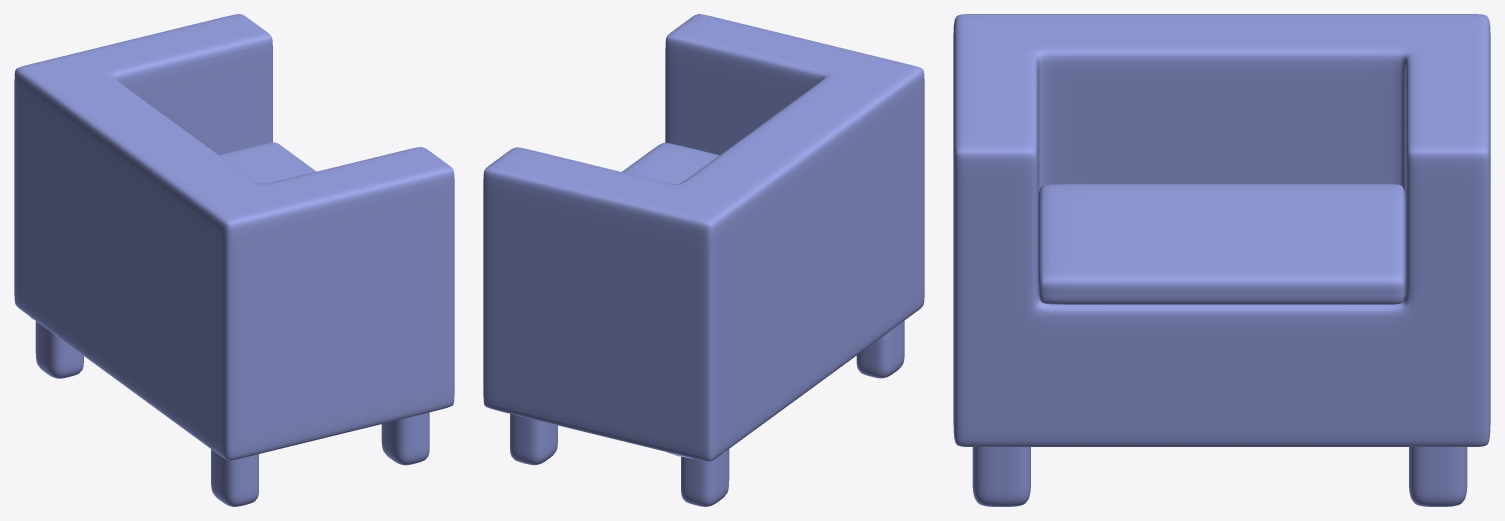
Rendered from Sofa2.fbx.
3 renders of one model, left to right at view 1: azimuth 30°, elevation 25°; view 2: azimuth 150°, elevation 25°; view 3: azimuth 270°, elevation 25°, orthographic. The views are drawn at different scales.
Parts seen in each view (by area): view 1: Couch.003; view 2: Couch.003; view 3: Couch.003.
Boxes of the visible parts, left/top/right/bottom form: Couch.003: left=14, top=14, right=454, bottom=506; Couch.003: left=483, top=14, right=924, bottom=506; Couch.003: left=953, top=14, right=1490, bottom=506.
Size of the model in its own units: 78.25 by 96.61 by 127.
